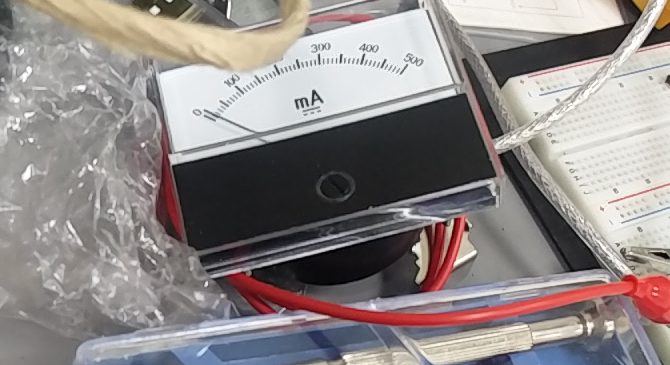MilliAmp_Meter: (141, 11, 465, 168)
